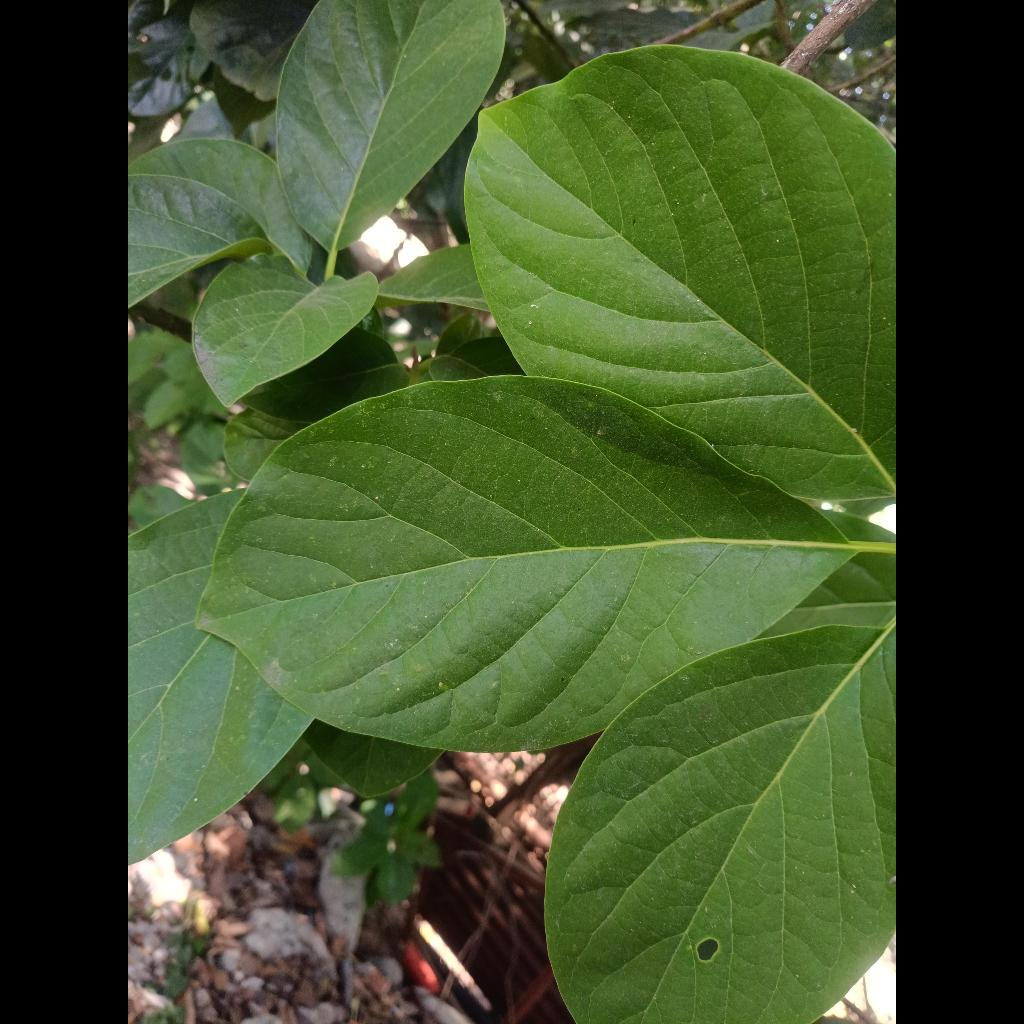Healthy: (198, 377, 854, 749), (465, 47, 896, 500), (276, 0, 505, 252)
Pest Infested: (545, 626, 896, 1024)
